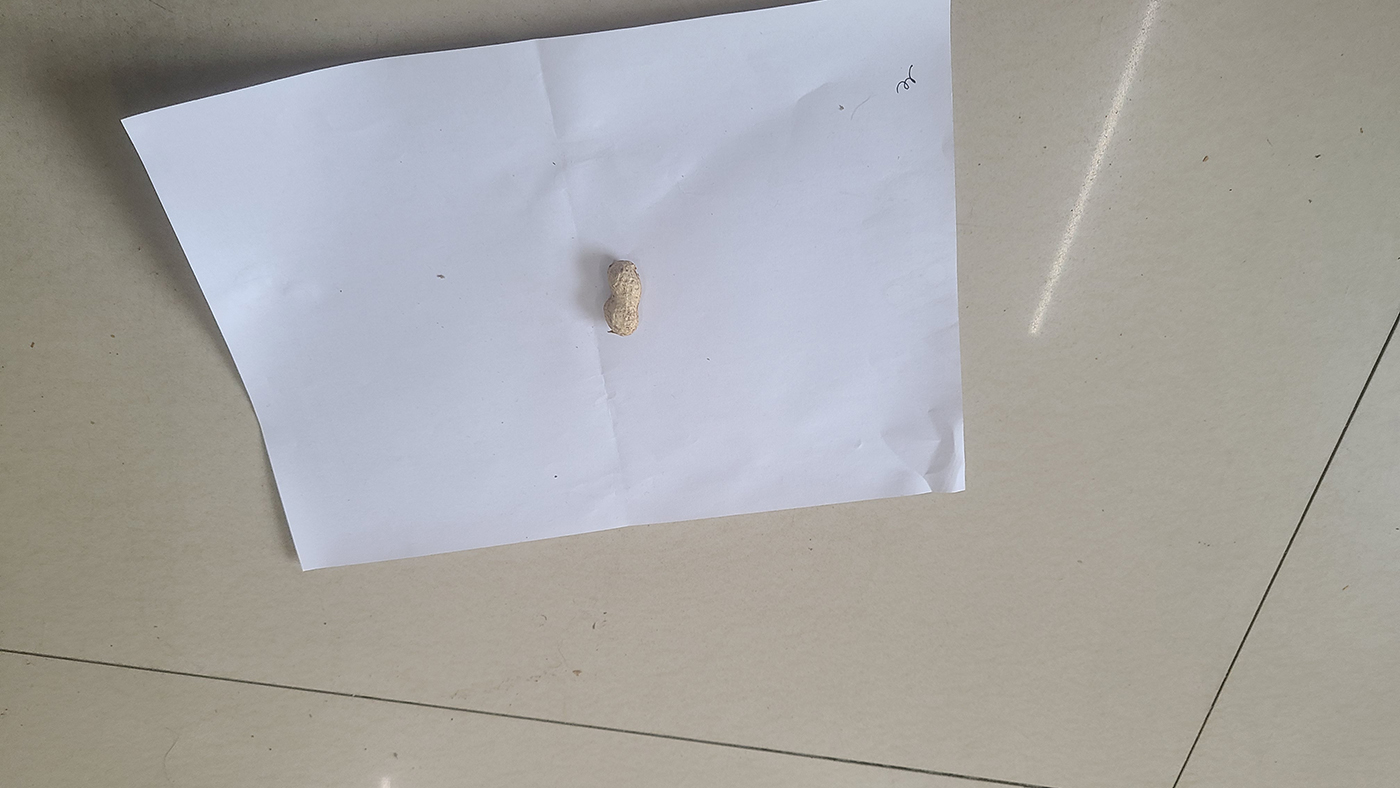h: (603, 259, 643, 336)
